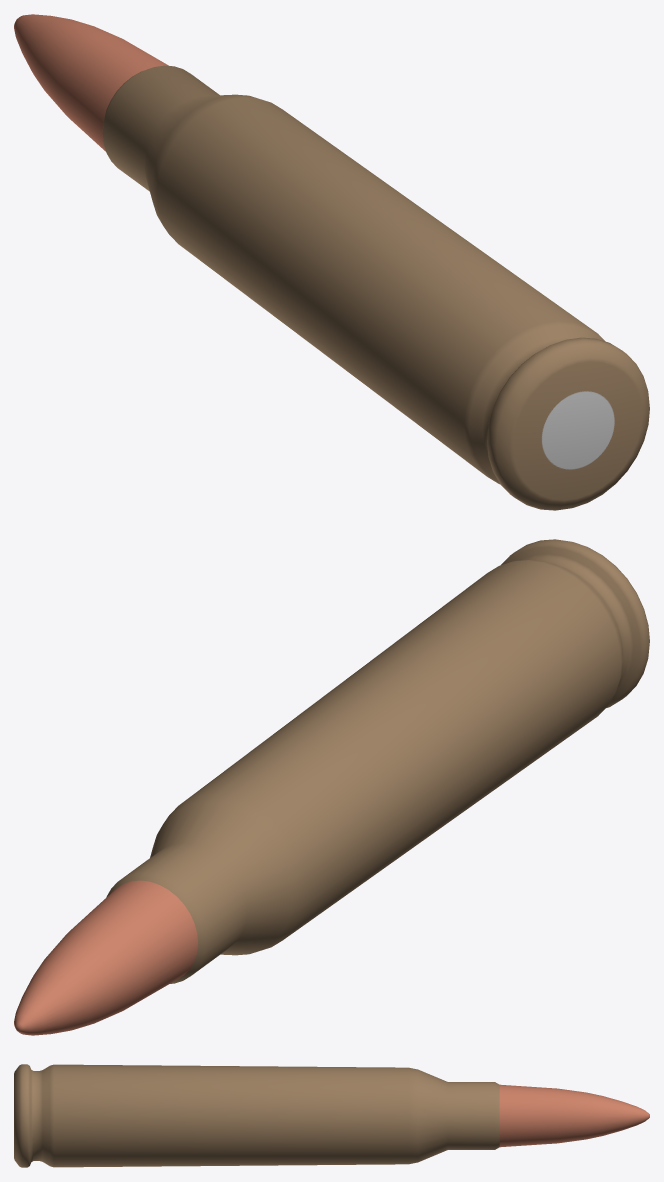
File: bullet.glb
3 renders of one model, top to bottom at view 1: azimuth 30°, elevation 25°; view 2: azimuth 150°, elevation 25°; view 3: azimuth 270°, elevation 25°, orthographic. The views are drawn at different scales.
Visible parts, largest first — view 1: Cylinder, Cylinder.001; view 2: Cylinder, Cylinder.001; view 3: Cylinder, Cylinder.001.
Boxes of the visible parts, x1,y1,x2,y2 form: Cylinder: (102, 65, 649, 510); Cylinder.001: (14, 14, 168, 151); Cylinder: (106, 539, 649, 983); Cylinder.001: (14, 880, 197, 1035); Cylinder: (14, 1064, 499, 1167); Cylinder.001: (499, 1084, 649, 1147).
Size of the model in its own units: 0.0312 by 0.0312 by 0.1913.
1 material, 1 textured.
